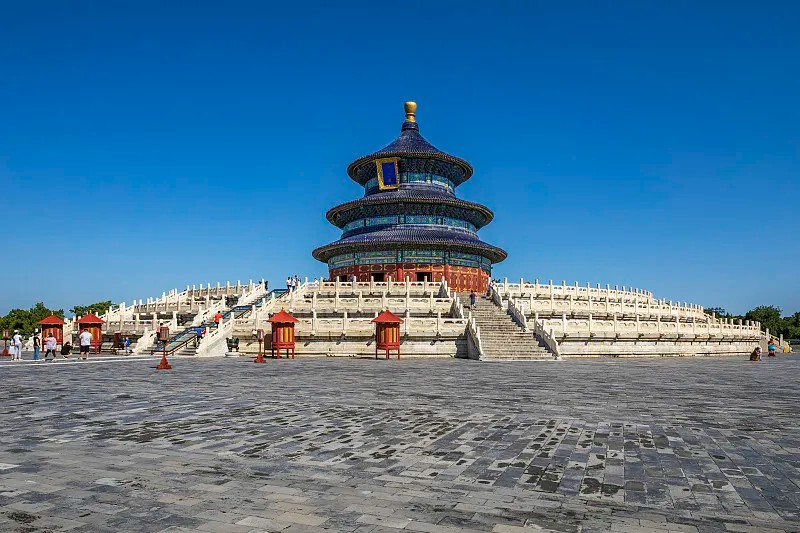Heaven: (310, 101, 508, 291)
